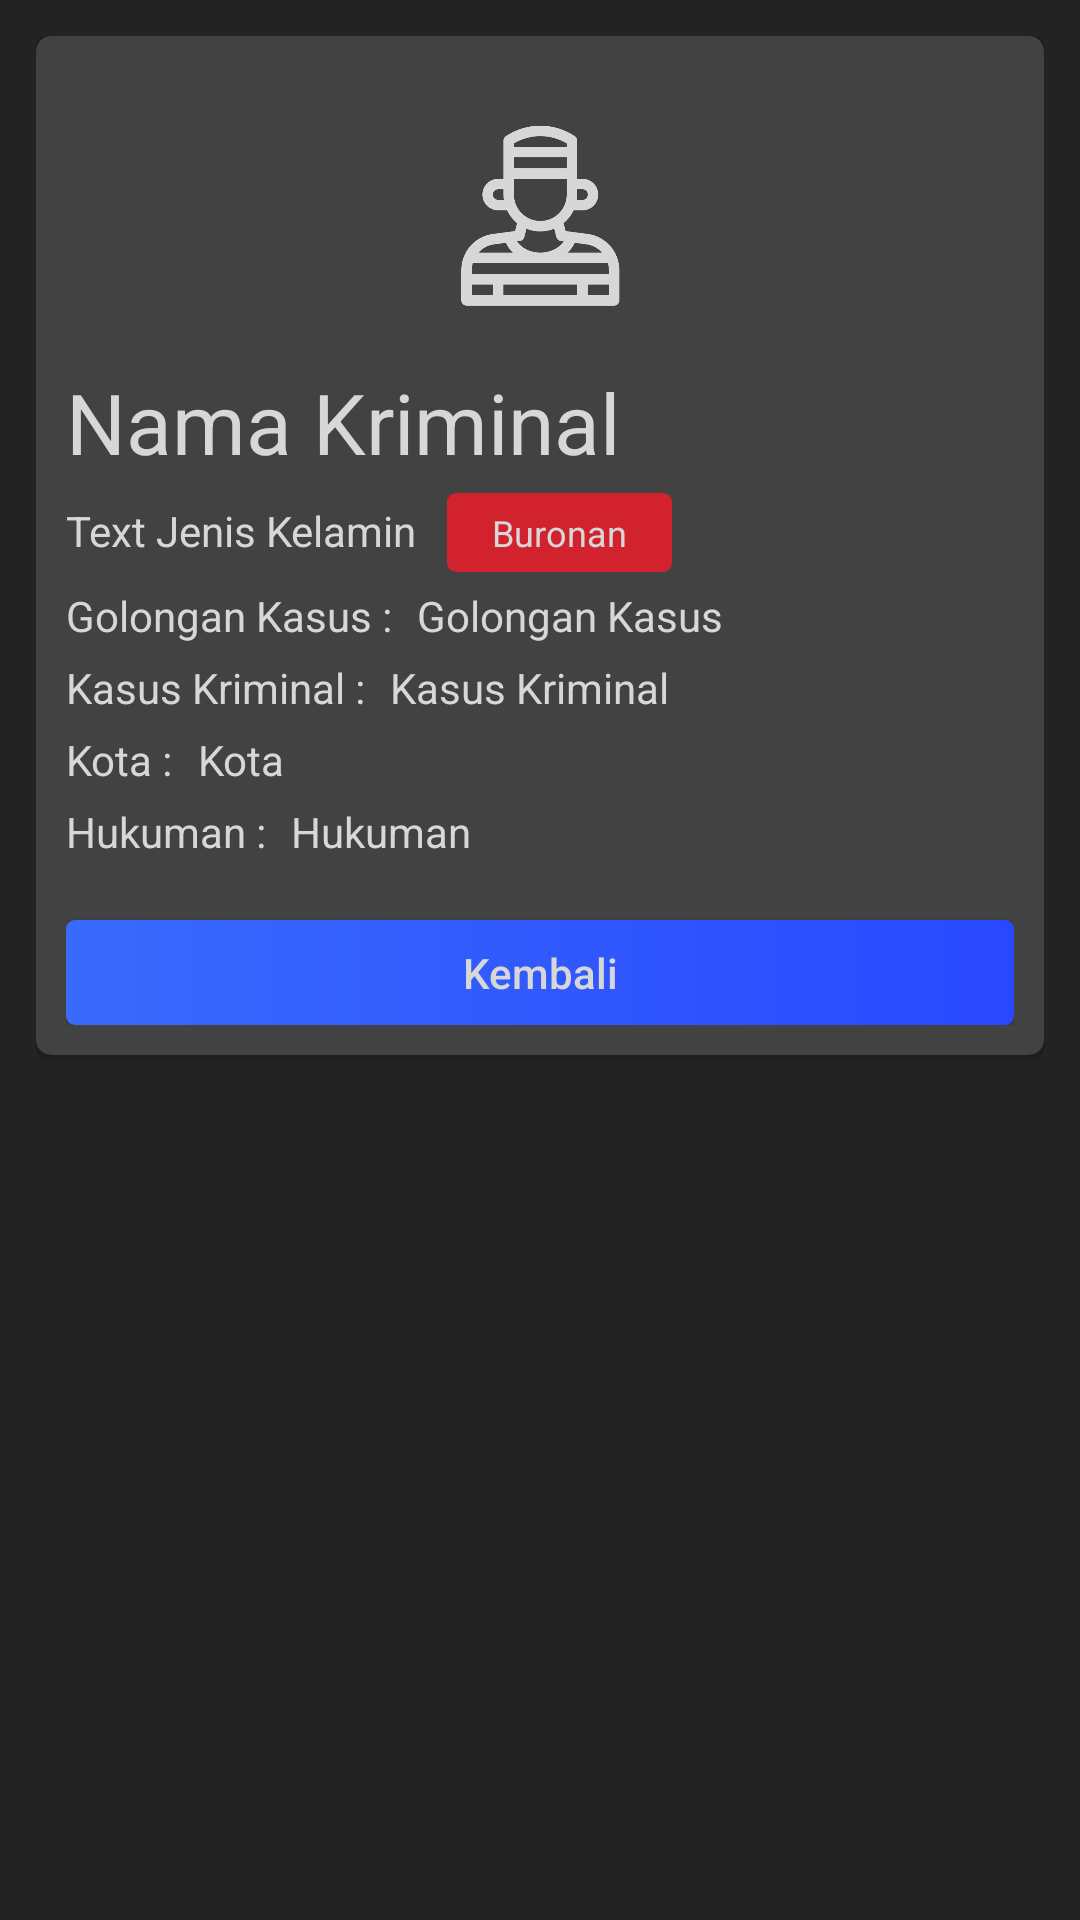

Locate icon controls on the screen. Image size 1080x1920, boxes as region(x1, y1, x2, y2).
prisoner: region(461, 126, 620, 306)
